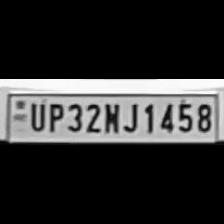1: (138, 100, 156, 134)
2: (83, 99, 101, 133)
3: (64, 100, 82, 132)
4: (156, 100, 174, 134)
5: (174, 99, 194, 133)
8: (194, 100, 212, 132)
J: (119, 99, 138, 133)
N: (101, 100, 119, 134)
P: (44, 100, 64, 132)
U: (27, 100, 46, 132)
